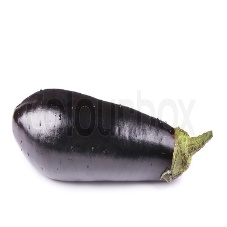eggplant: (12, 86, 188, 190)
